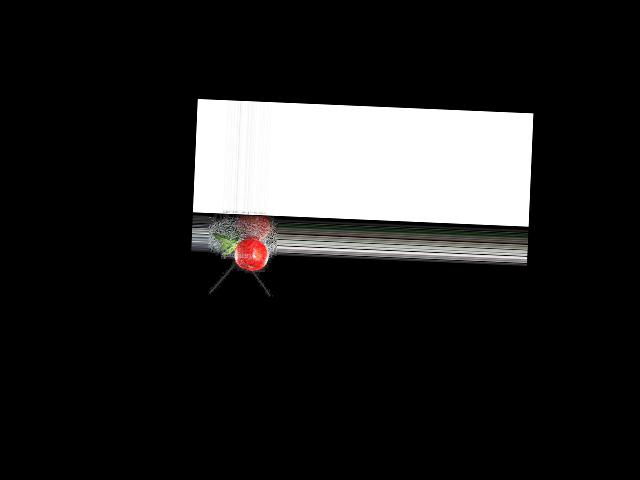tomato: (233, 238, 268, 271)
